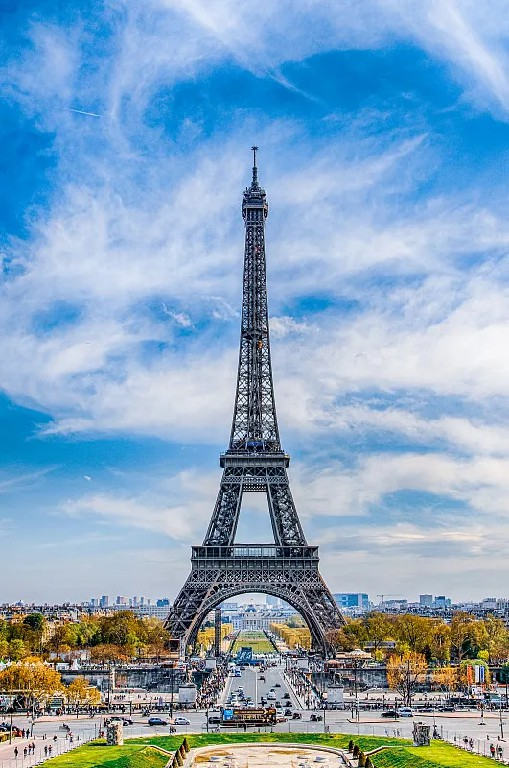Eiffel: (160, 142, 356, 655)
